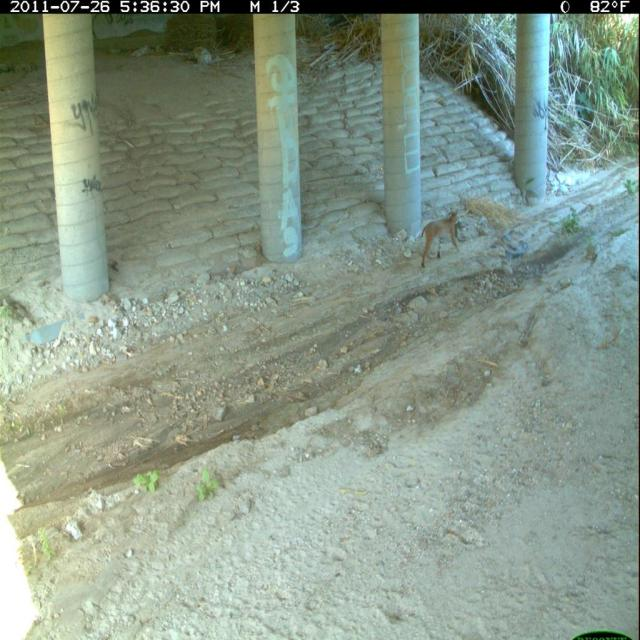bobcat: (417, 204, 464, 272)
rabbit: (452, 219, 466, 250)
